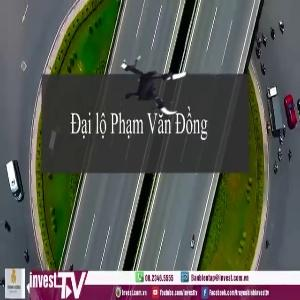drone: (109, 44, 192, 127)
